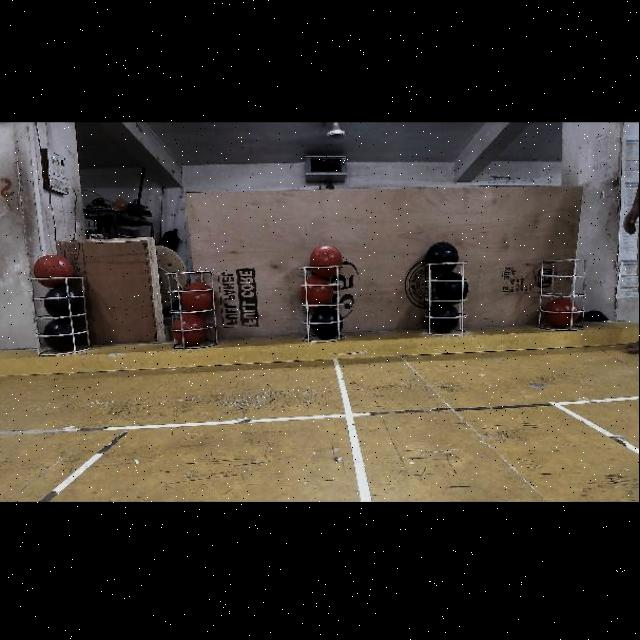P: (44, 316, 78, 349), (45, 286, 79, 316), (312, 308, 342, 338), (427, 242, 459, 270), (435, 272, 469, 298), (429, 305, 459, 331)
R: (172, 312, 206, 344), (36, 254, 72, 284), (182, 283, 215, 313), (546, 296, 578, 326), (302, 276, 332, 304), (311, 246, 341, 274)
S: (32, 274, 96, 348), (532, 252, 588, 334), (165, 262, 218, 344), (423, 252, 472, 336), (302, 266, 348, 344)
